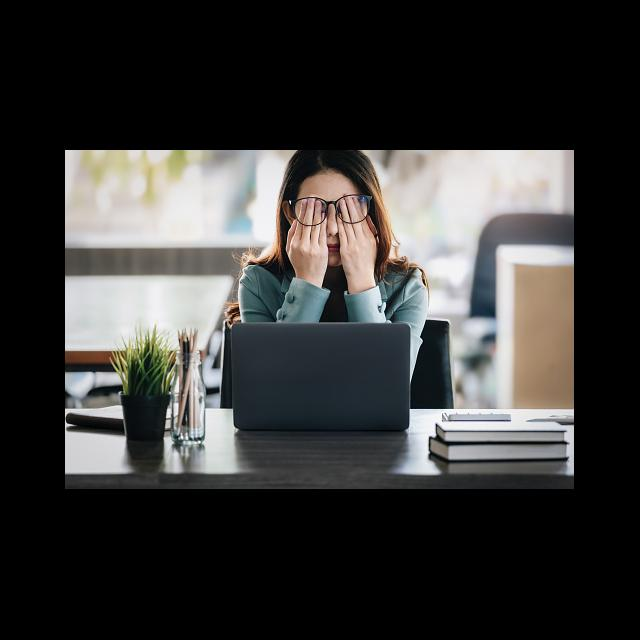female: (228, 155, 441, 272)
